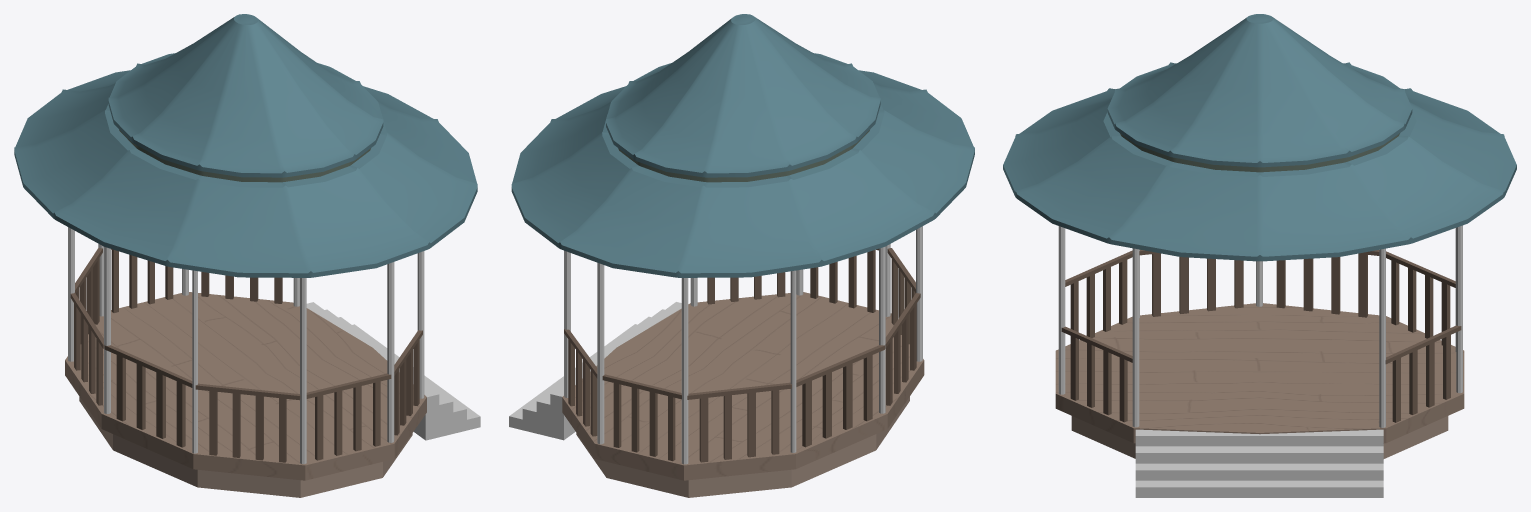
Rendered from gazebo.fbx.
3 views of the same model, side by side, from view 1: azimuth 30°, elevation 25°; view 2: azimuth 150°, elevation 25°; view 3: azimuth 270°, elevation 25° (orthographic).
Visible parts, largest first — view 1: gazebo; view 2: gazebo; view 3: gazebo.
Part boxes in pixels (x1,y1,x2,y2): gazebo: (14,14,480,497); gazebo: (509,14,974,497); gazebo: (1003,14,1516,497).
Bounding box in the file's own units: 27.95 × 28.19 × 32.98.
1 material, 1 textured.
